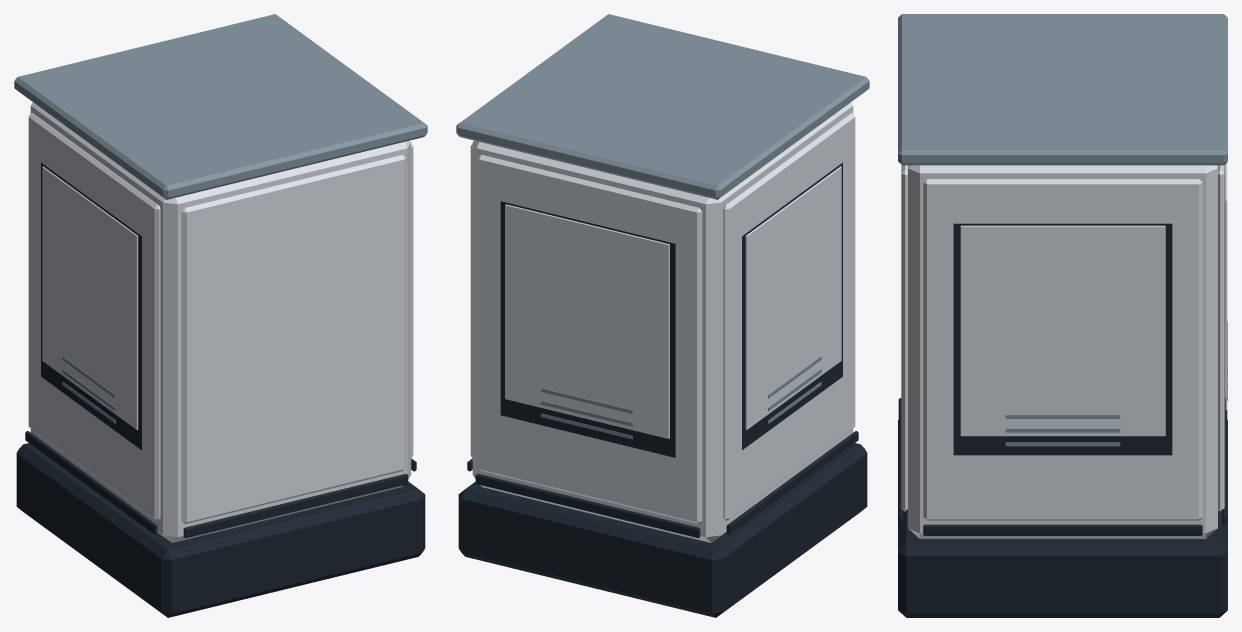
File: WallEnd.fbx
The picture shows the model from 3 angles, left to right: view 1: azimuth 30°, elevation 25°; view 2: azimuth 150°, elevation 25°; view 3: azimuth 270°, elevation 25°; orthographic projection. The views are drawn at different scales.
Visible parts, largest first — view 1: WallBody, Plinth; view 2: WallBody, Plinth; view 3: WallBody, Plinth.
Boxes of the visible parts, x1,y1,x2,y2 form: WallBody: (14,14,427,542); Plinth: (16,443,425,617); WallBody: (456,14,869,542); Plinth: (458,443,867,617); WallBody: (898,14,1227,538); Plinth: (898,420,1227,617).
Bounding box in the file's own units: 0.98 × 1.54 × 0.98.
